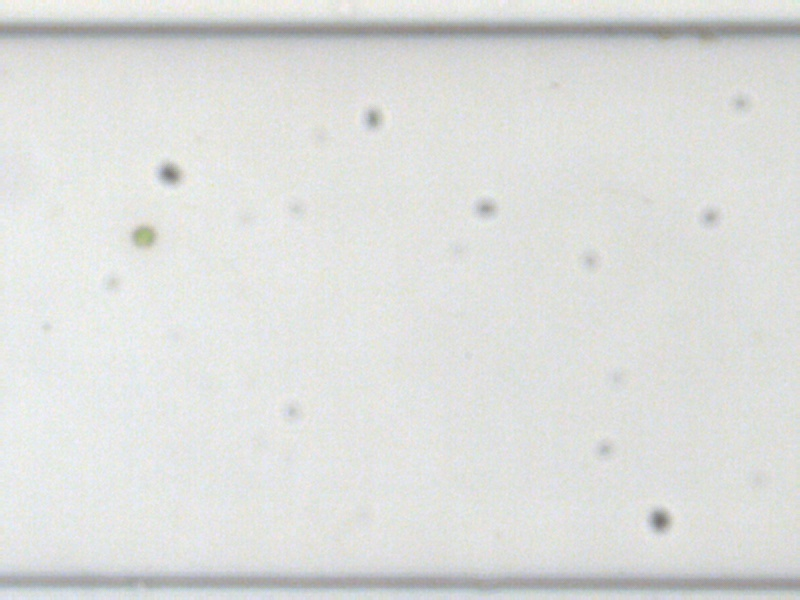Chlorella: (134, 226, 154, 244)
